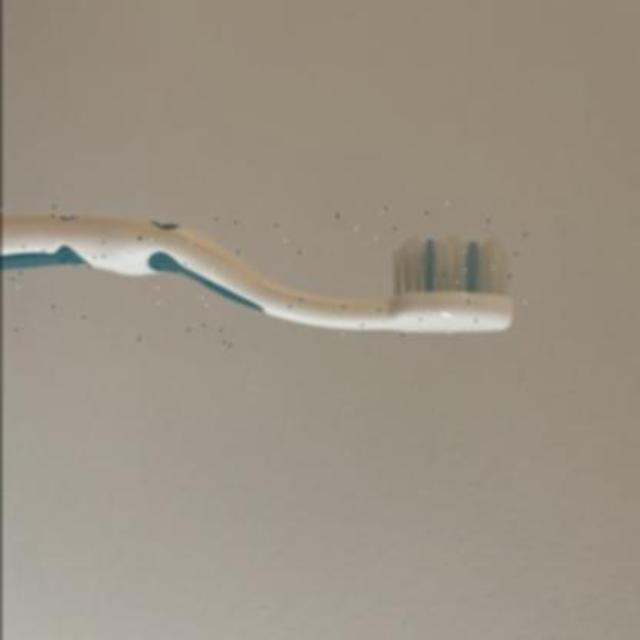toothbrush: (0, 202, 524, 346)
